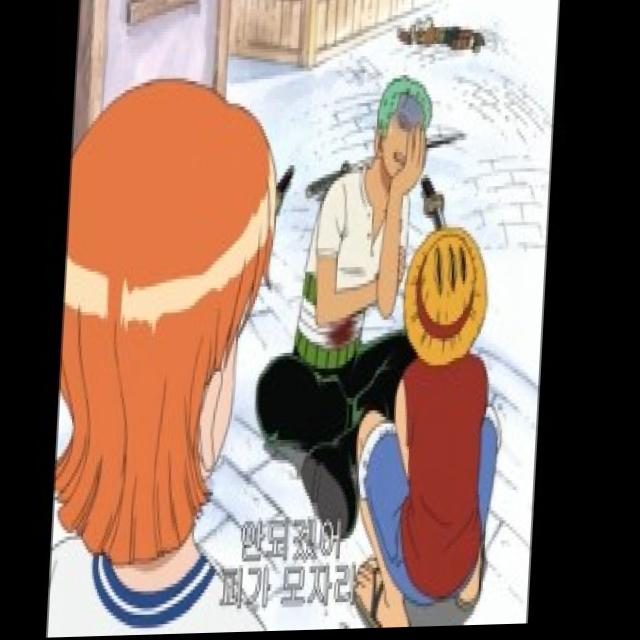Luffy: (401, 230, 499, 386)
Nami: (44, 71, 290, 574)
Zoro: (364, 62, 441, 205)
